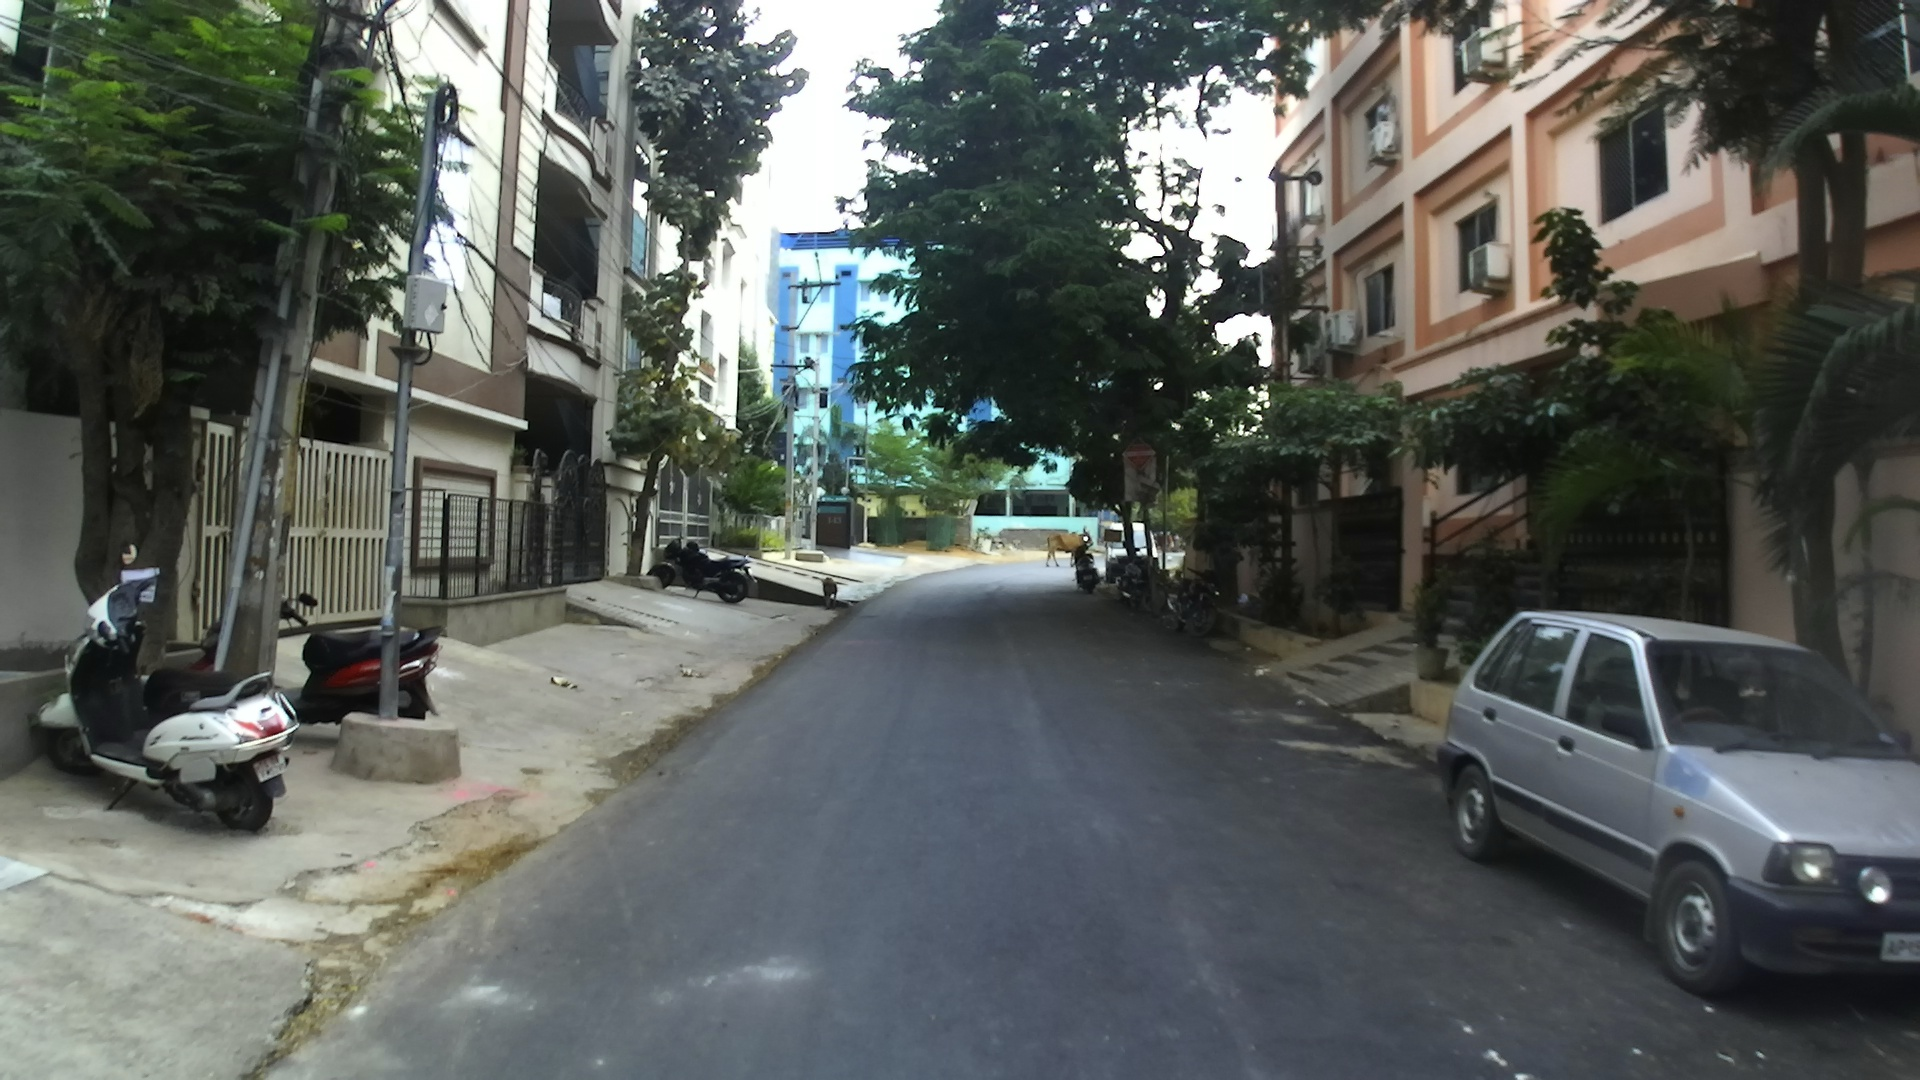vehicle: (1433, 608, 1919, 994), (34, 556, 301, 835), (649, 542, 752, 604)
